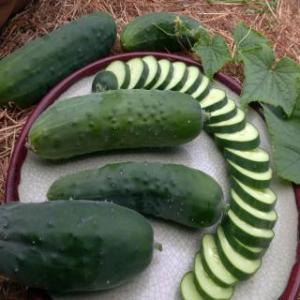cucumber: (0, 200, 158, 294), (26, 86, 204, 162), (45, 158, 226, 228), (0, 12, 118, 103), (118, 8, 202, 52)
